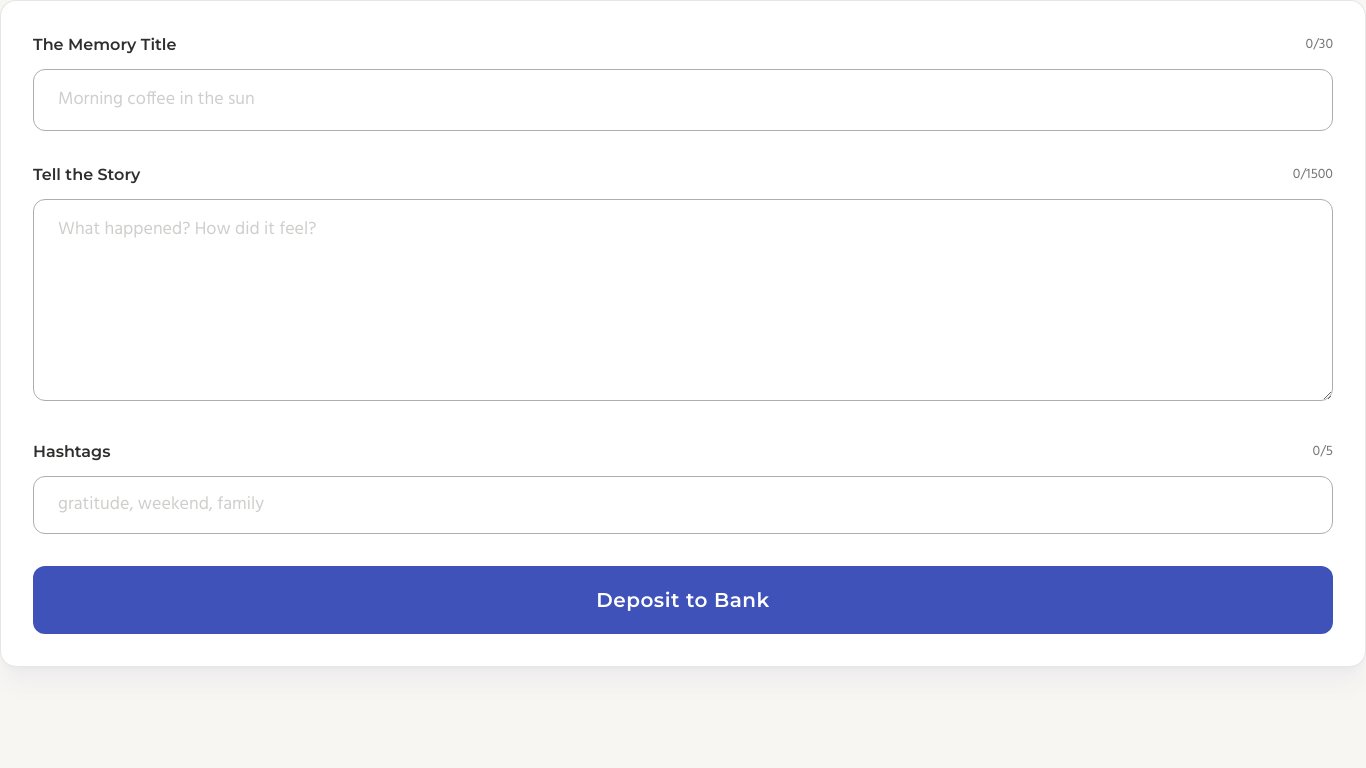
CreateMemoryCard › Hashtag Input Behavior › should add hashtag when Enter key is pressed
Type "happy" into the field with id "memory-hashtags" at coordinates (683, 505), box [58, 491, 1308, 519]
Then press Enter
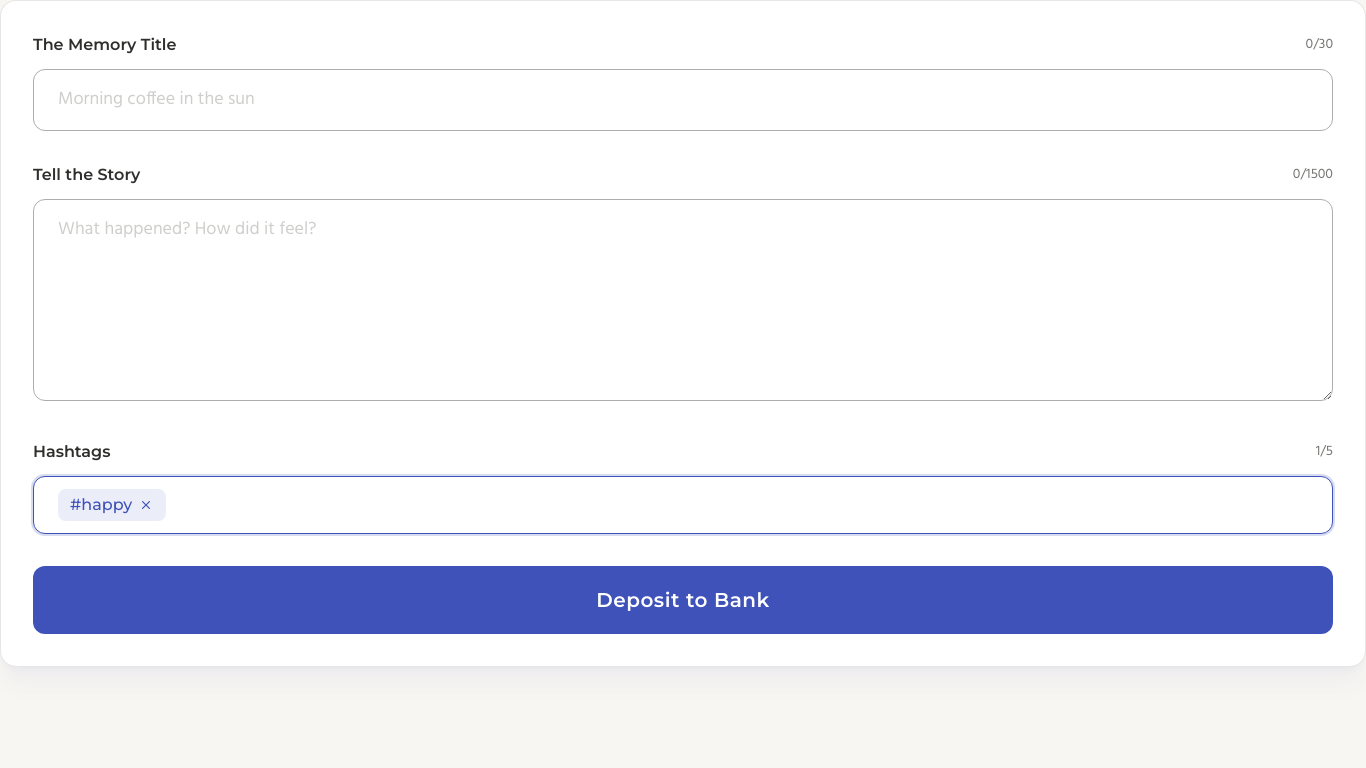
Expected: the field with id "memory-hashtags" is empty, [174, 491, 1308, 519]
Expected: the text "#happy" is shown, [58, 489, 166, 521]
